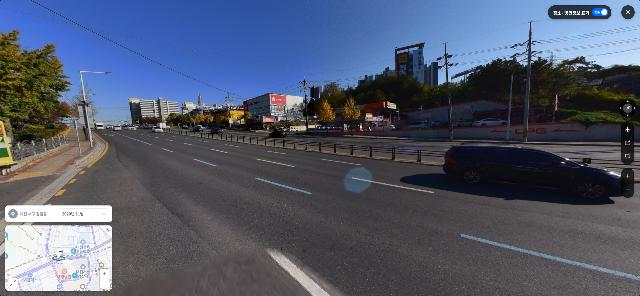ginkgo: (342, 97, 360, 136), (317, 100, 335, 135), (203, 114, 215, 130), (219, 114, 230, 131), (195, 112, 205, 127), (168, 113, 177, 128)
other: (0, 30, 71, 148), (68, 82, 103, 134), (284, 102, 304, 134), (188, 113, 196, 128), (176, 113, 184, 127), (183, 113, 191, 126)
